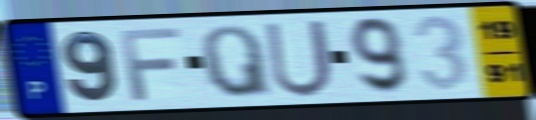3: (411, 12, 473, 95)
9: (345, 15, 413, 96), (58, 27, 121, 107)
F: (117, 25, 183, 103)
Q: (198, 23, 276, 100)
U: (262, 17, 337, 100)
